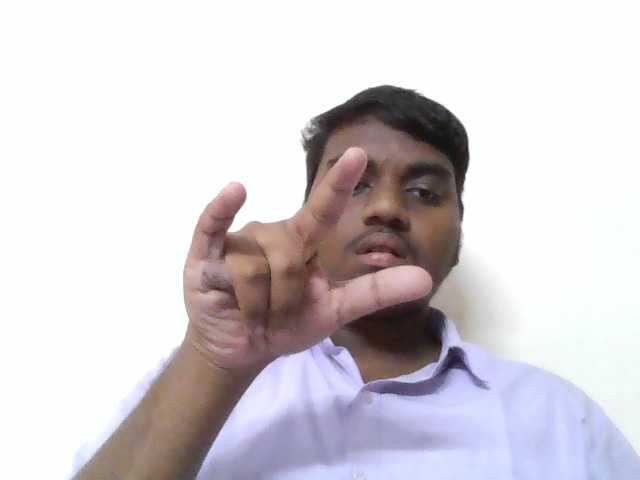I love you: (139, 137, 438, 367)
